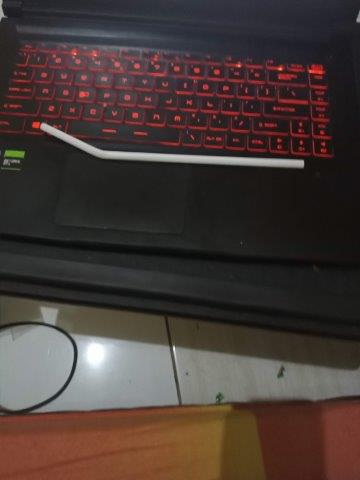sedotan: (40, 123, 304, 169)
